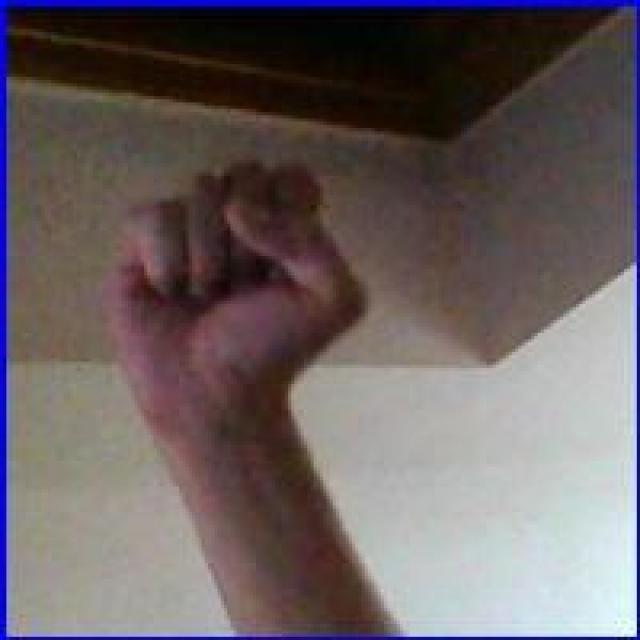S: (104, 160, 373, 429)
